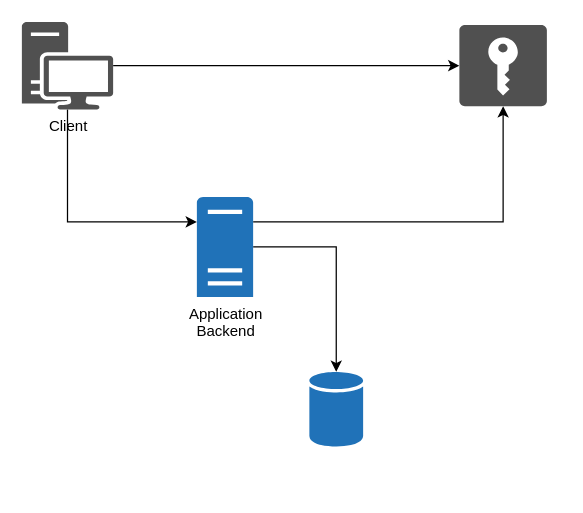
The diagram is 583 pixels wide and 513 high, and some of its shapes have lost their labels. Each missing label, with the centre of its shape:
"Application Database" belongs at point (335, 408).
"Identity Provider" belongs at point (502, 65).
